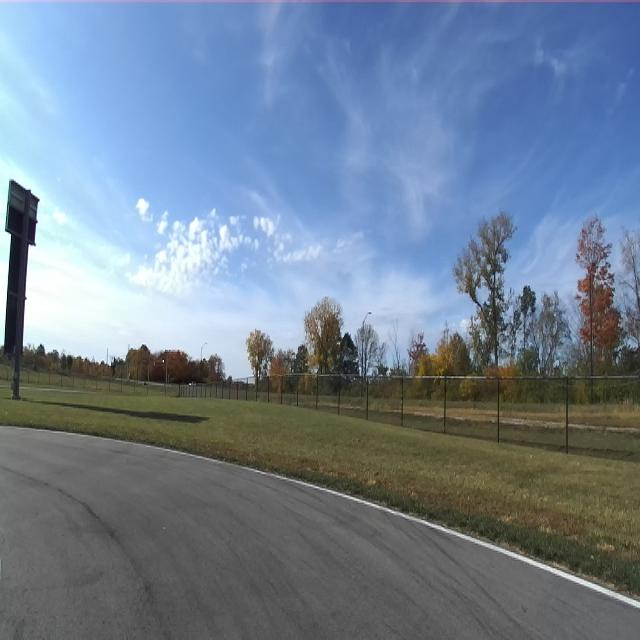white-line: (16, 427, 640, 611)
